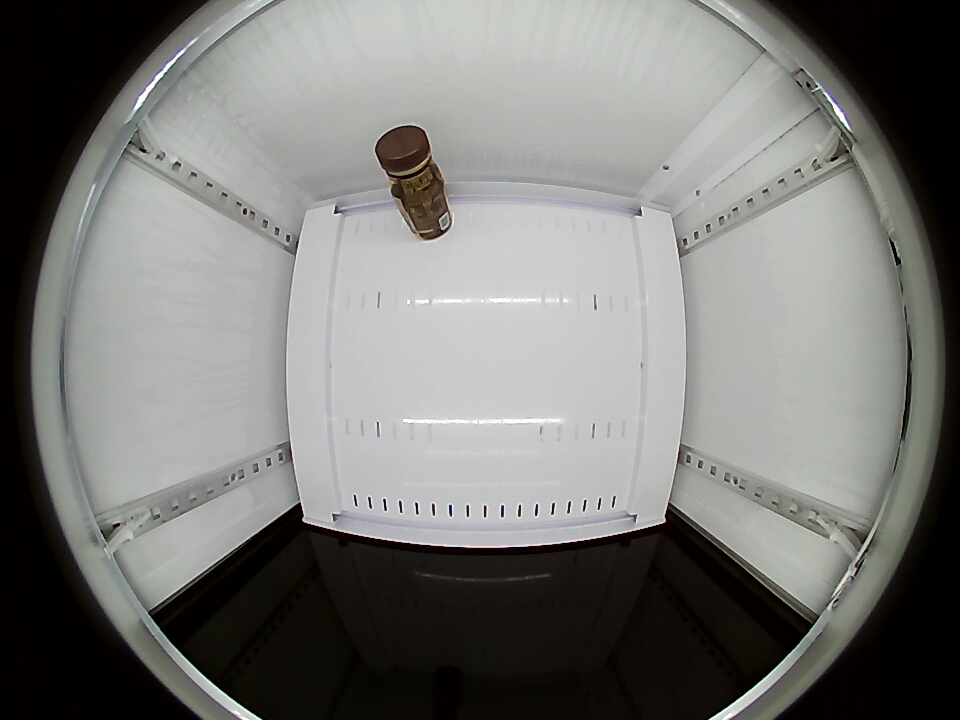lujikafei: (375, 125, 445, 202)
